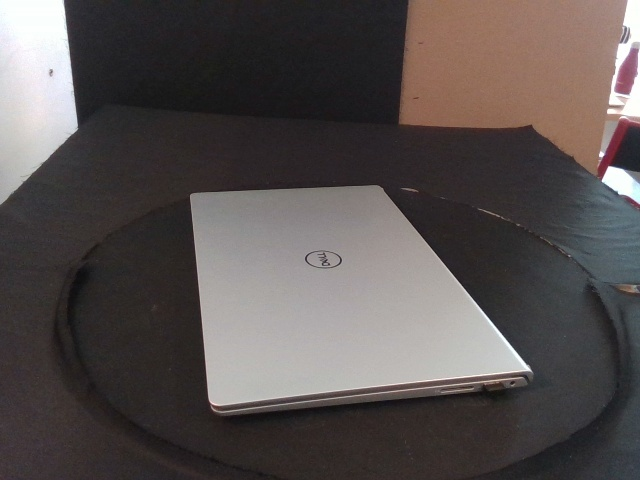laptop: (189, 184, 535, 418)
